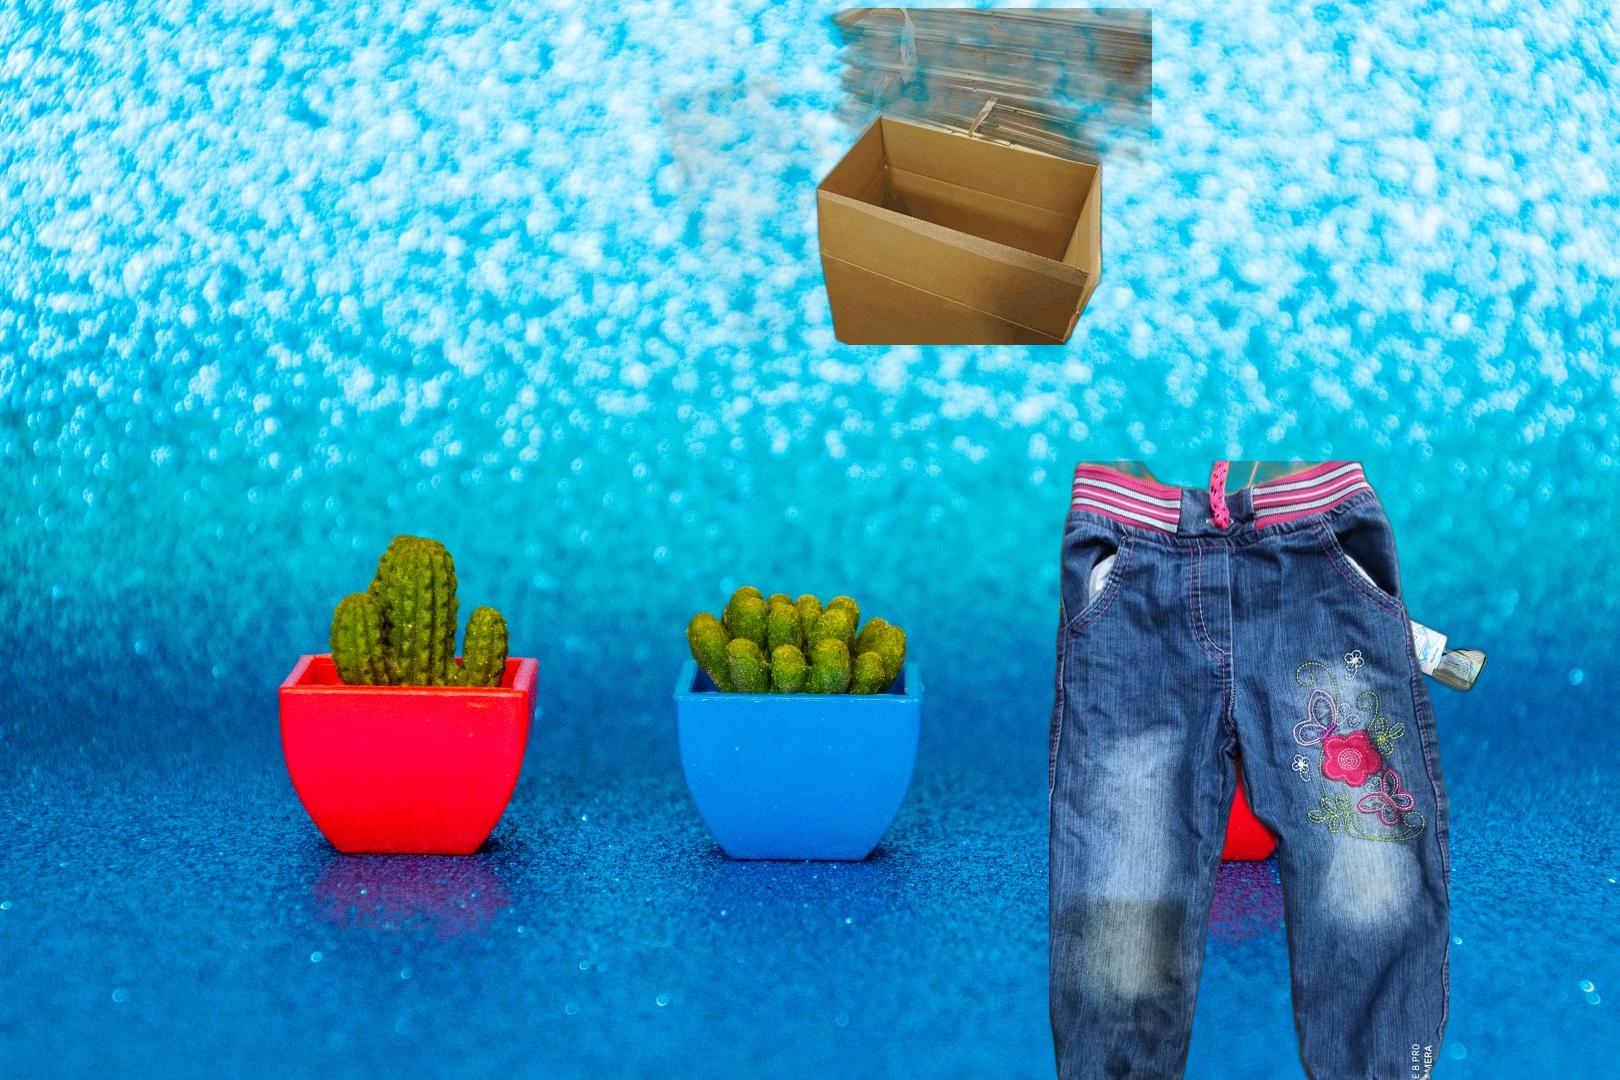clothes: (1049, 460, 1449, 1080)
glass: (1319, 592, 1492, 699)
trashbox-cardboard: (647, 8, 1152, 345)
